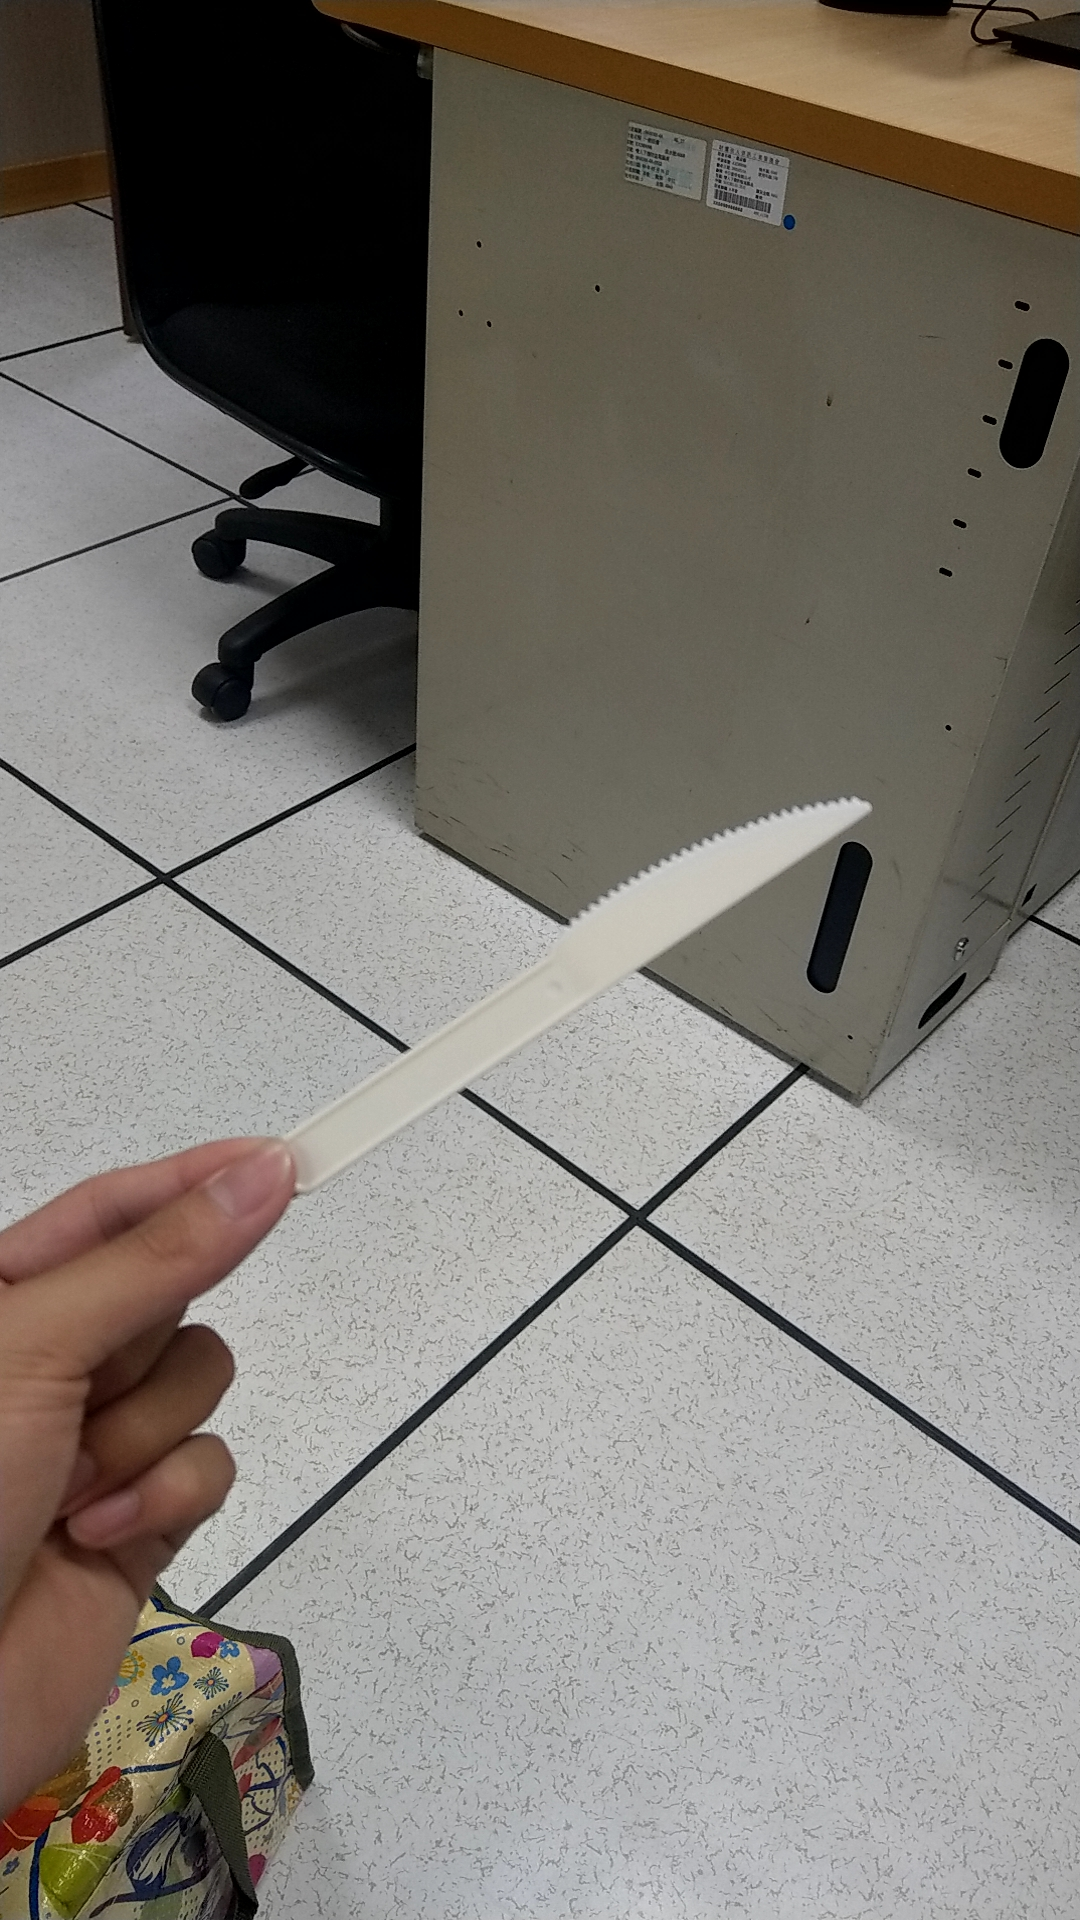knife: (225, 754, 890, 1150)
